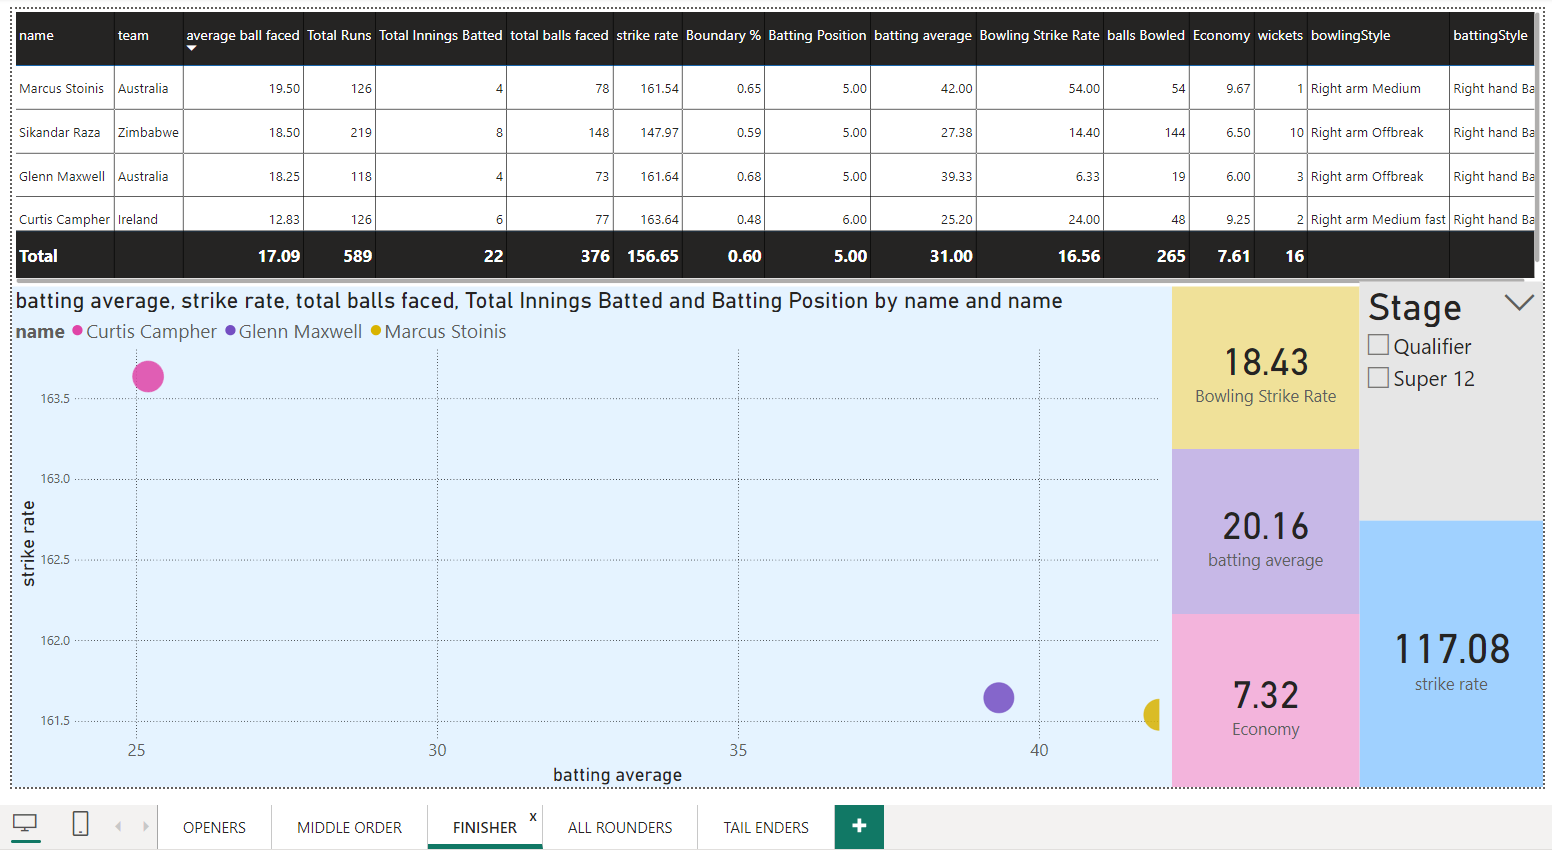

The page's visual inventory and layout, read from the dashboard file:
{"tool":"powerbi","page":{"name":"FINISHER","canvas":[2450,1245],"ordinal":2},"visuals":[{"type":"tableEx","fields":{"Values":["player summary.name","player summary.team","Key Measure.average ball faced","Key Measure.Total Runs","Key Measure.Total Innings Batted","Key Measure.total balls faced","Key Measure.strike rate","Key Measure.Boundary %","Key Measure.Batting Position","Key Measure.batting average","Key Measure.Bowling Strike Rate","Key Measure.balls Bowled"]},"box":[0,0,2450,444],"z":0},{"type":"scatterChart","fields":{"Category":["player summary.name"],"X":["Key Measure.batting average"],"Y":["Key Measure.strike rate"],"Size":["Key Measure.total balls faced"],"Series":["player summary.name"]},"box":[0,444,1856,802],"z":1000},{"type":"card","fields":{"Values":["Key Measure.batting average"]},"box":[1856,704,300,264],"z":2000},{"type":"card","fields":{"Values":["Key Measure.Bowling Strike Rate"]},"box":[1856,444,300,260],"z":3000},{"type":"card","fields":{"Values":["Key Measure.strike rate"]},"box":[2156,818,294,428],"z":4000},{"type":"card","fields":{"Values":["Key Measure.Economy"]},"box":[1856,968,300,278],"z":5000},{"type":"slicer","fields":{"Values":["match summary.Stage"]},"box":[2156,436,294,382],"z":6000}]}

Visuals, with their boxes on the page's 2450x1245 design canvas (x1, y1, x2, y2). These are canvas units, not pixel positions in the 1552x850 screenshot, which may show the page scaled, cropped or inside an application window:
tableEx - player summary.name x player summary.team: {"x1": 0, "y1": 0, "x2": 2450, "y2": 444}
scatterChart - player summary.name x Key Measure.batting average: {"x1": 0, "y1": 444, "x2": 1856, "y2": 1246}
card - Key Measure.batting average: {"x1": 1856, "y1": 704, "x2": 2156, "y2": 968}
card - Key Measure.Bowling Strike Rate: {"x1": 1856, "y1": 444, "x2": 2156, "y2": 704}
card - Key Measure.strike rate: {"x1": 2156, "y1": 818, "x2": 2450, "y2": 1246}
card - Key Measure.Economy: {"x1": 1856, "y1": 968, "x2": 2156, "y2": 1246}
slicer - match summary.Stage: {"x1": 2156, "y1": 436, "x2": 2450, "y2": 818}
